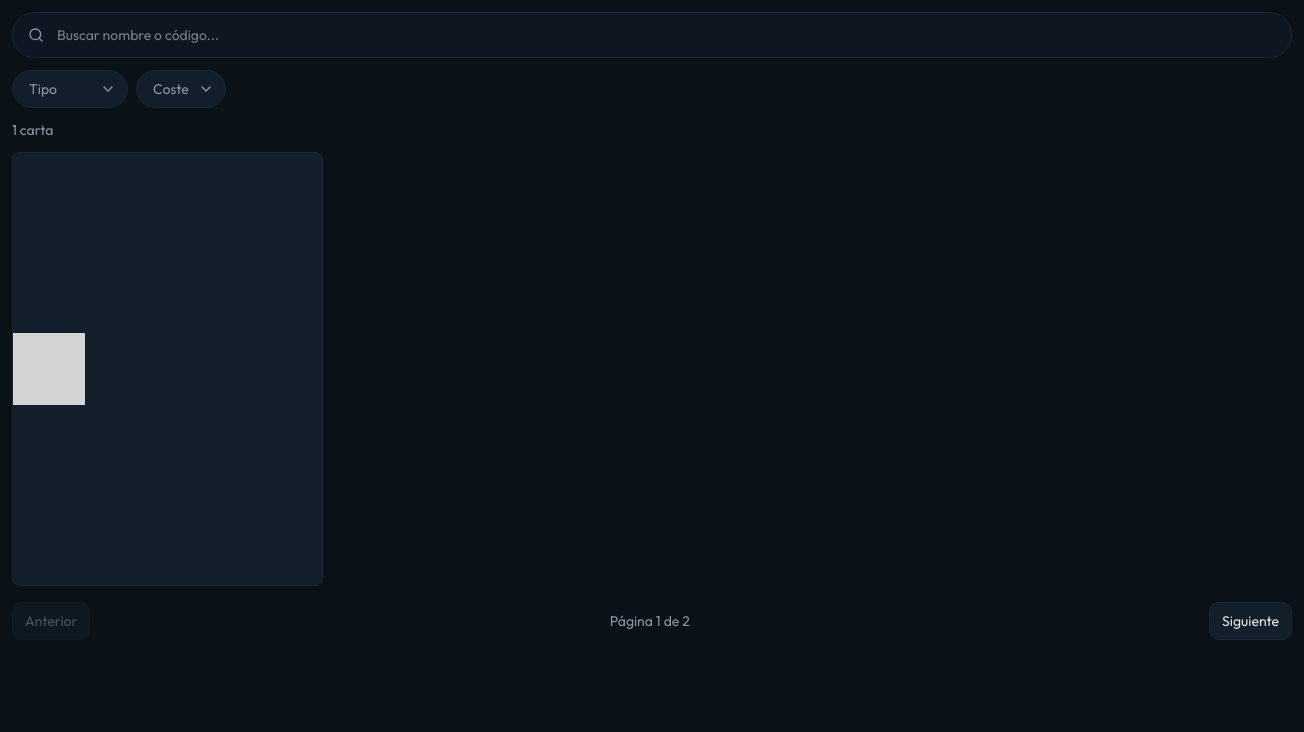
Test: CardCatalog › deshabilita Siguiente en la última página
Step 1. Click the button "Siguiente" → (1251, 621), box [1209,602,1292,640]
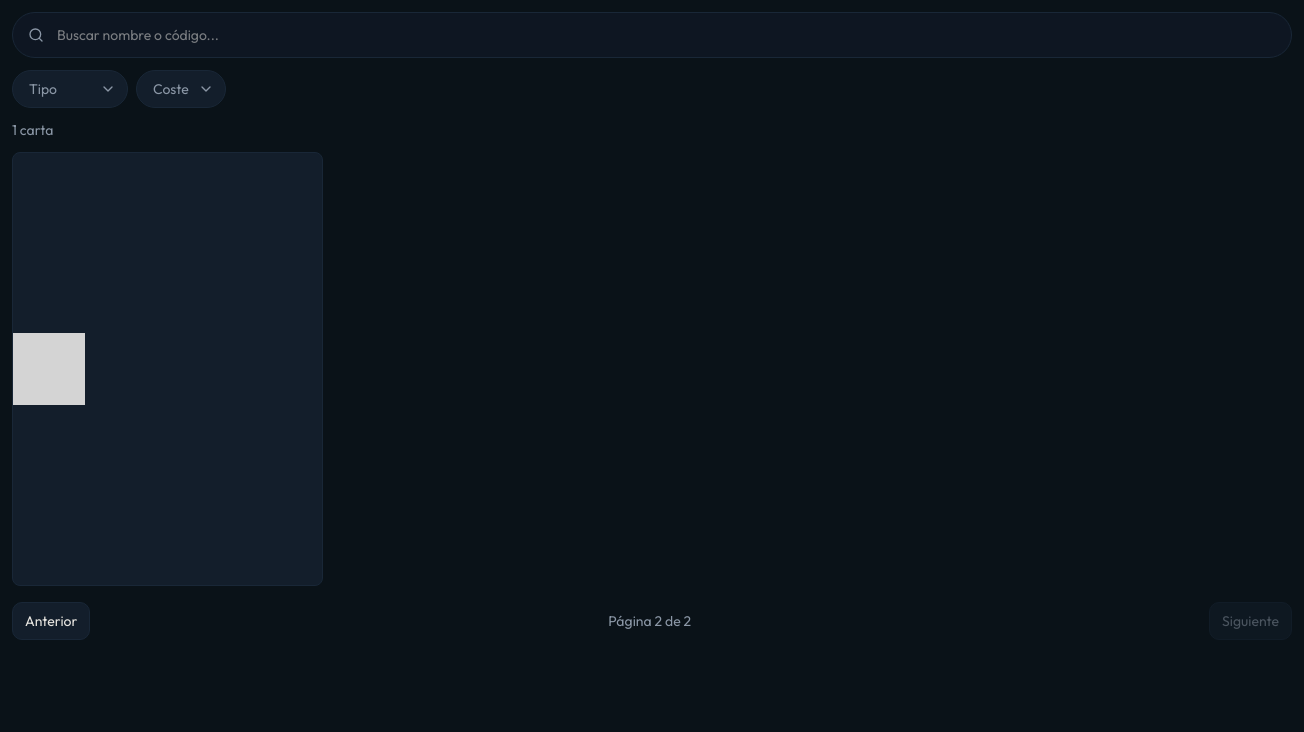
Expected: the text "Página 2 de 2" is shown, [608,611,691,631]
Expected: the button "Siguiente" is disabled, [1209,602,1292,640]
